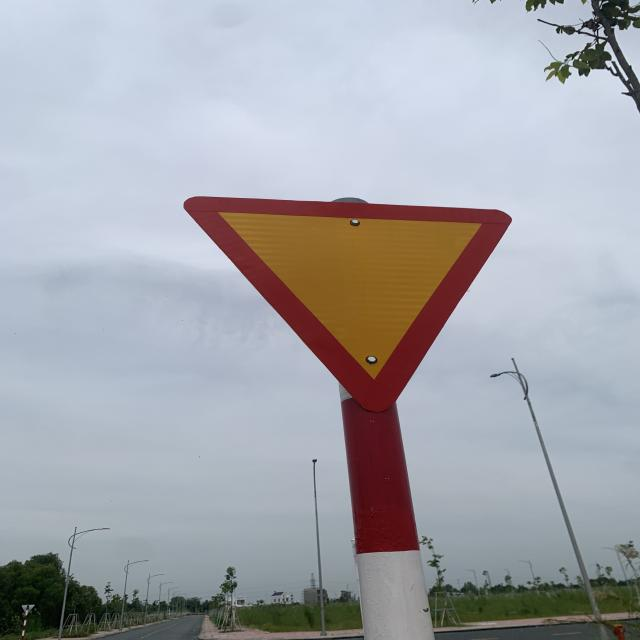Gioi_Han_Toc_Do_25: (184, 196, 514, 414)
